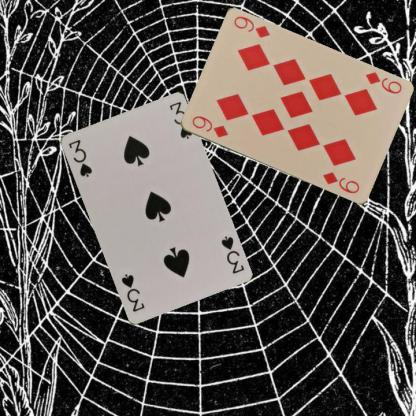3s: (65, 136, 93, 178), (218, 233, 245, 275)
9d: (362, 70, 404, 96), (189, 113, 229, 139)
